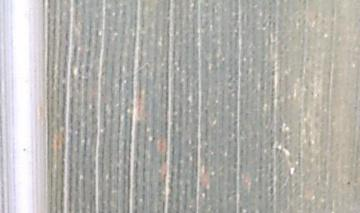tarspot: (343, 181, 351, 188)
